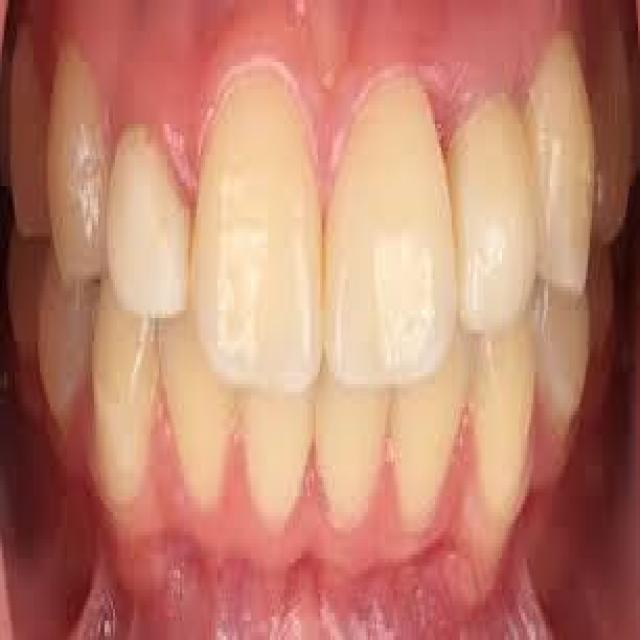tooth: (190, 62, 326, 396), (331, 58, 460, 392), (446, 93, 540, 326), (525, 39, 600, 298), (152, 295, 238, 516), (42, 23, 115, 280), (462, 299, 540, 508), (90, 264, 157, 500), (109, 117, 190, 310), (318, 364, 395, 554), (389, 353, 464, 543), (242, 364, 312, 520)
